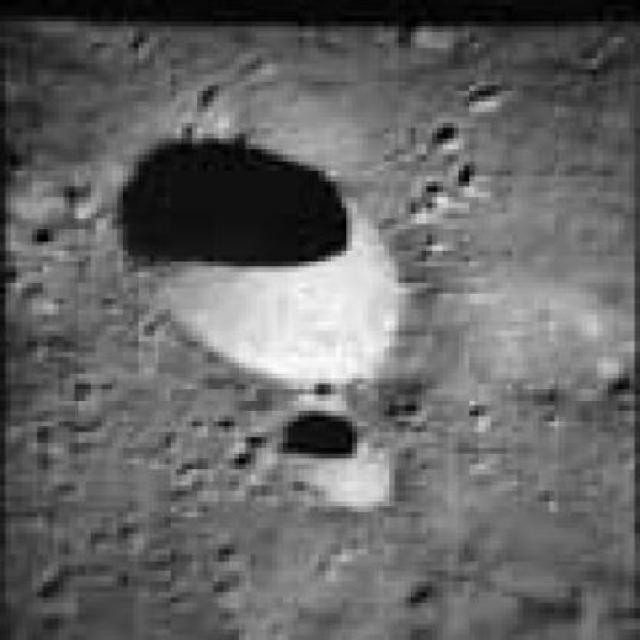crater: (120, 138, 398, 384), (268, 415, 387, 508)
